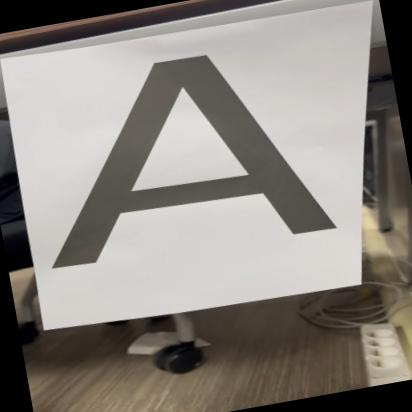seat: (25, 31, 342, 274)
